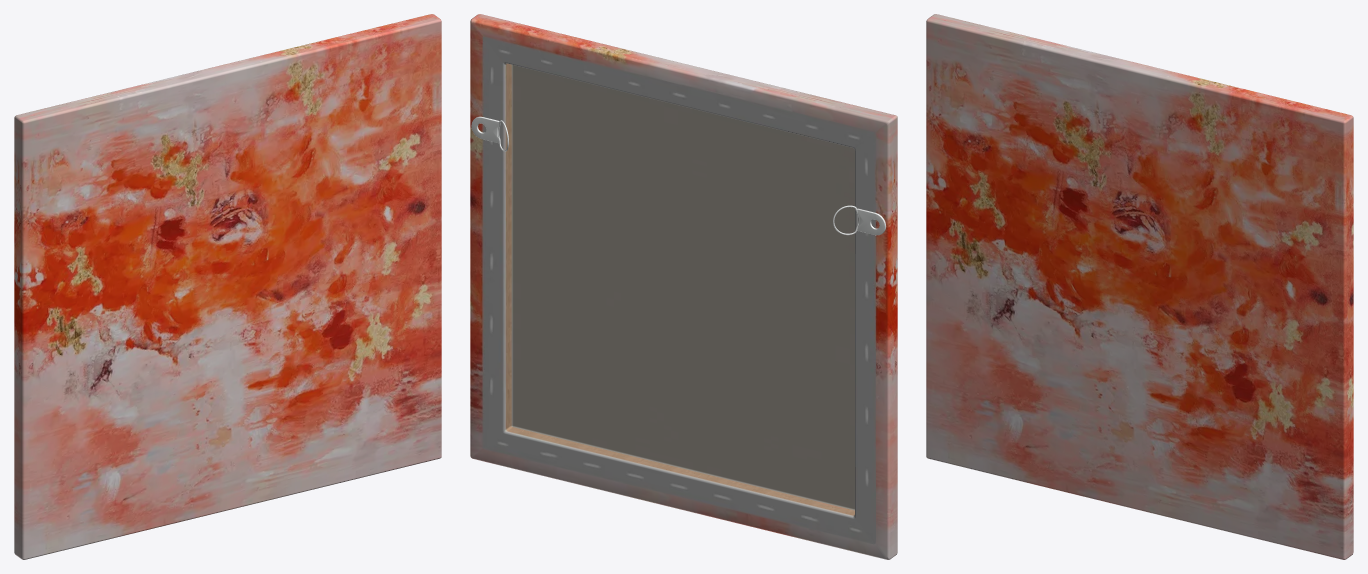
The model's file is abo-B07HSLGGDB.glb.
The picture shows the model from 3 angles, left to right: view 1: azimuth 30°, elevation 25°; view 2: azimuth 150°, elevation 25°; view 3: azimuth 330°, elevation 25°; orthographic projection.
Size of the model in its own units: 0.878 by 0.878 by 0.066.
1 material, 1 textured.
